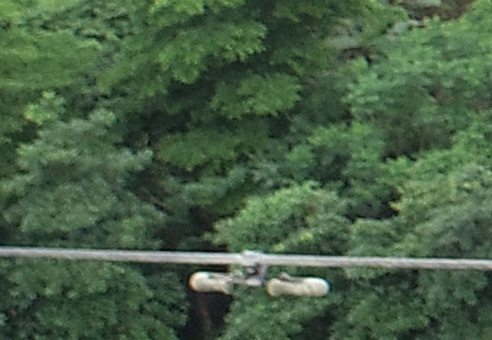damper: (186, 249, 329, 299)
